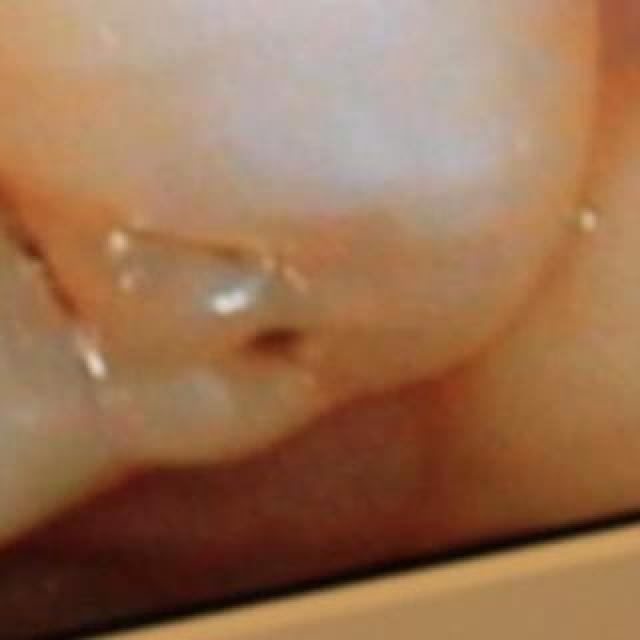cavities: (0, 0, 134, 390)
